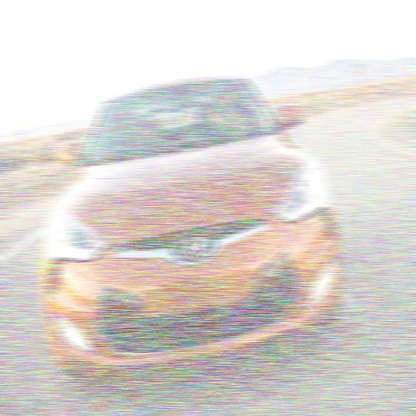Vehicle: (34, 57, 350, 391)
